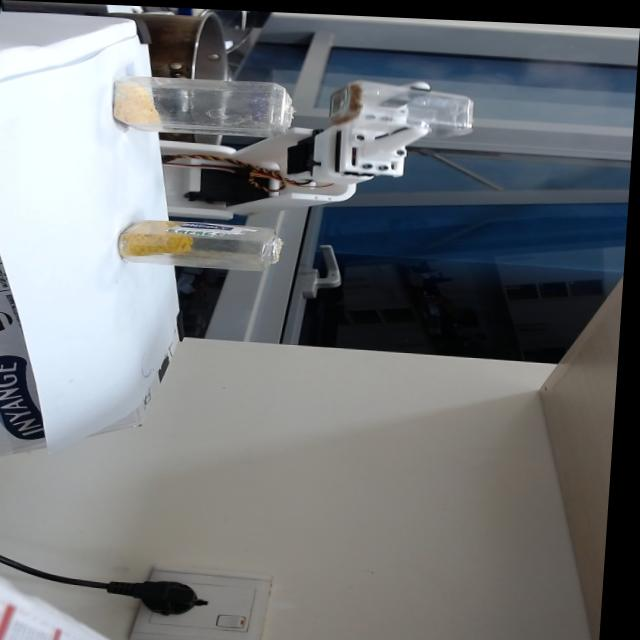cooking_pot: (100, 7, 233, 83)
curry_powder: (119, 217, 197, 258)
garlic_powder: (109, 79, 167, 130)
maggie_open: (326, 75, 366, 123)
